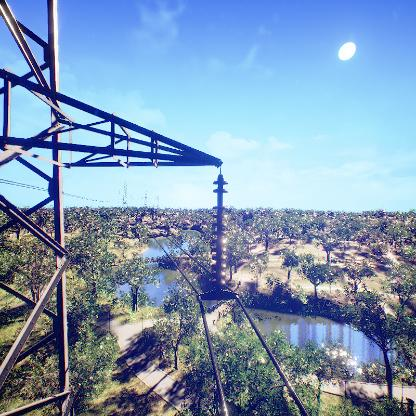insulator: (211, 174, 230, 289)
